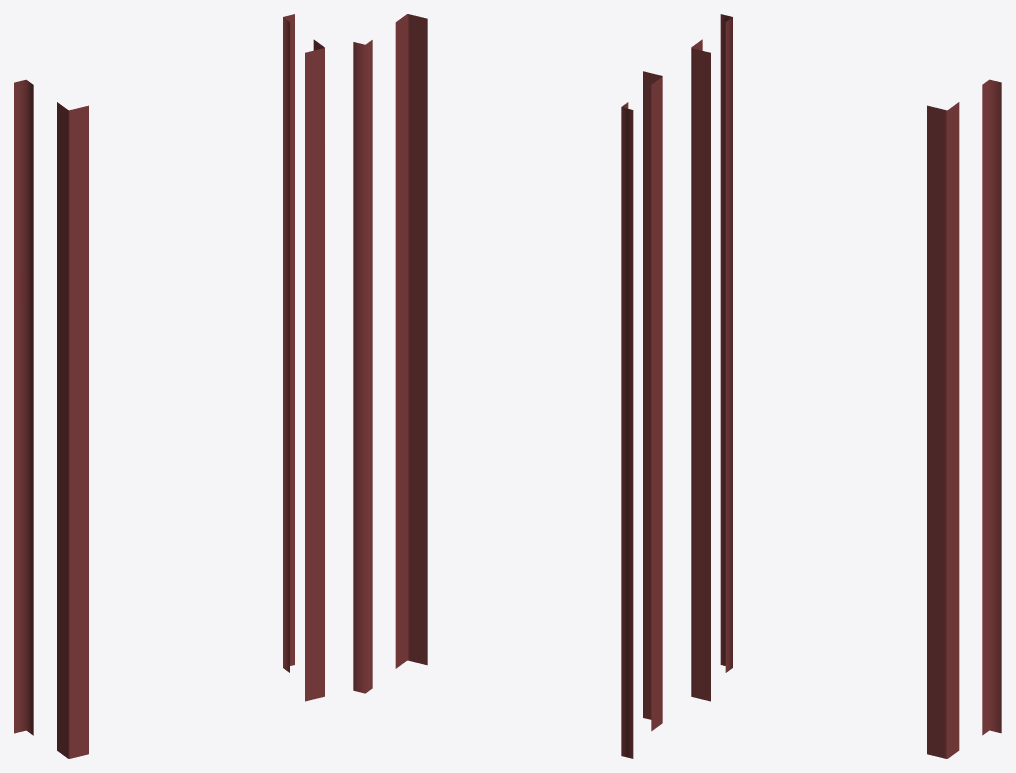
The model's file is Decal_wallIn_B_columnhalf_large.FBX.
3 views of the same model, side by side, from view 1: azimuth 30°, elevation 25°; view 2: azimuth 150°, elevation 25°; view 3: azimuth 330°, elevation 25° (orthographic).
Parts seen in each view (by area): view 1: Decal_wallIn_B_columnhalf_large; view 2: Decal_wallIn_B_columnhalf_large; view 3: Decal_wallIn_B_columnhalf_large.
Boxes of the visible parts, x1=… form: Decal_wallIn_B_columnhalf_large: x1=14, y1=14, x2=324, y2=758; Decal_wallIn_B_columnhalf_large: x1=353, y1=14, x2=662, y2=758; Decal_wallIn_B_columnhalf_large: x1=691, y1=14, x2=1001, y2=758.
Bounding box in the file's own units: 115 × 254 × 29.92.
